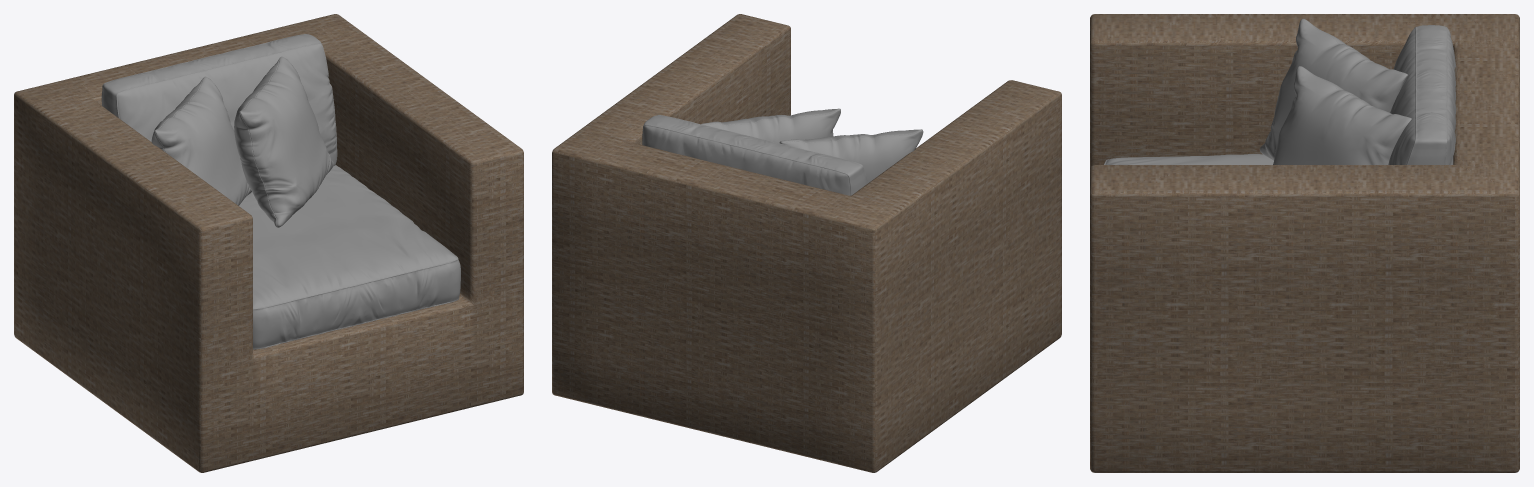
File: arm-chair.glb
3 renders of one model, left to right at view 1: azimuth 30°, elevation 25°; view 2: azimuth 150°, elevation 25°; view 3: azimuth 270°, elevation 25°, orthographic. The views are drawn at different scales.
Visible parts, largest first — view 1: couch fiber seat one; view 2: couch fiber seat one; view 3: couch fiber seat one.
Boxes of the visible parts, x1,y1,x2,y2 form: couch fiber seat one: [14, 14, 523, 472]; couch fiber seat one: [552, 14, 1061, 472]; couch fiber seat one: [1090, 14, 1519, 472].
Size of the model in its own units: 0.9661 by 0.7654 by 0.97.
Materials: 3 (2 with a texture image).
